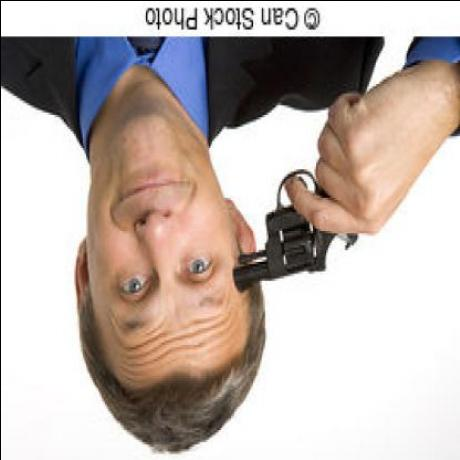1: (0, 34, 460, 452)
weapon: (218, 146, 362, 298)
